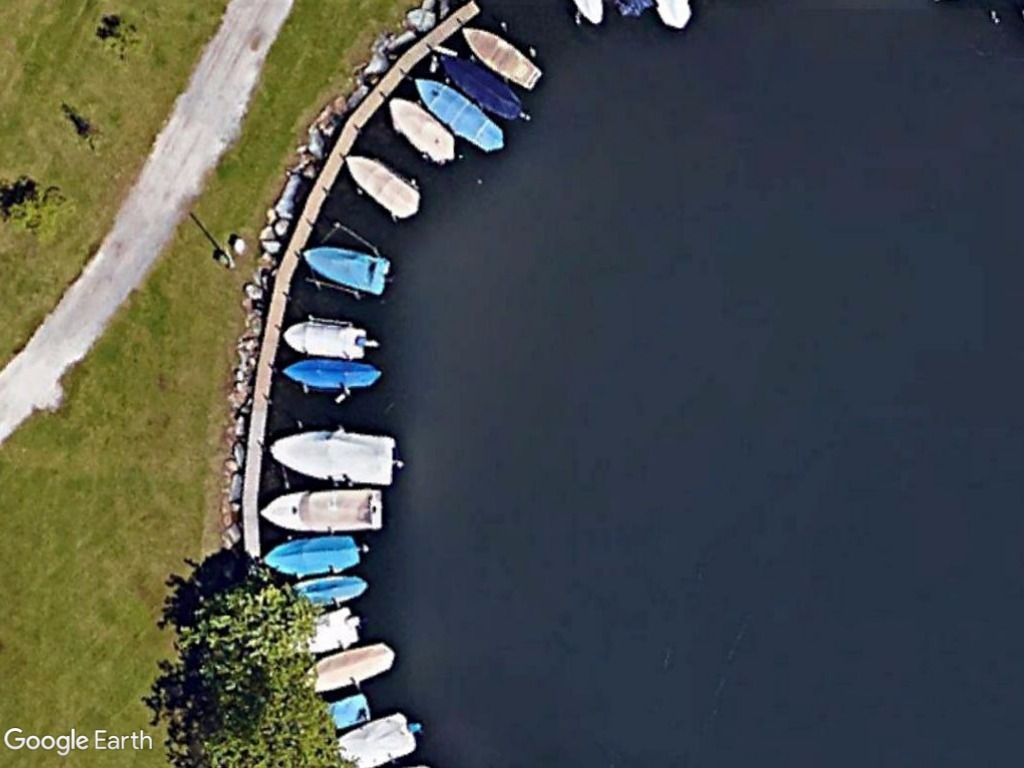boat: (422, 39, 536, 127), (263, 423, 403, 491), (409, 72, 507, 155), (255, 483, 390, 536), (452, 20, 546, 94), (337, 149, 426, 221), (382, 94, 462, 170), (297, 639, 398, 698), (251, 530, 363, 579), (297, 244, 395, 298), (278, 349, 387, 392), (277, 314, 371, 362)
